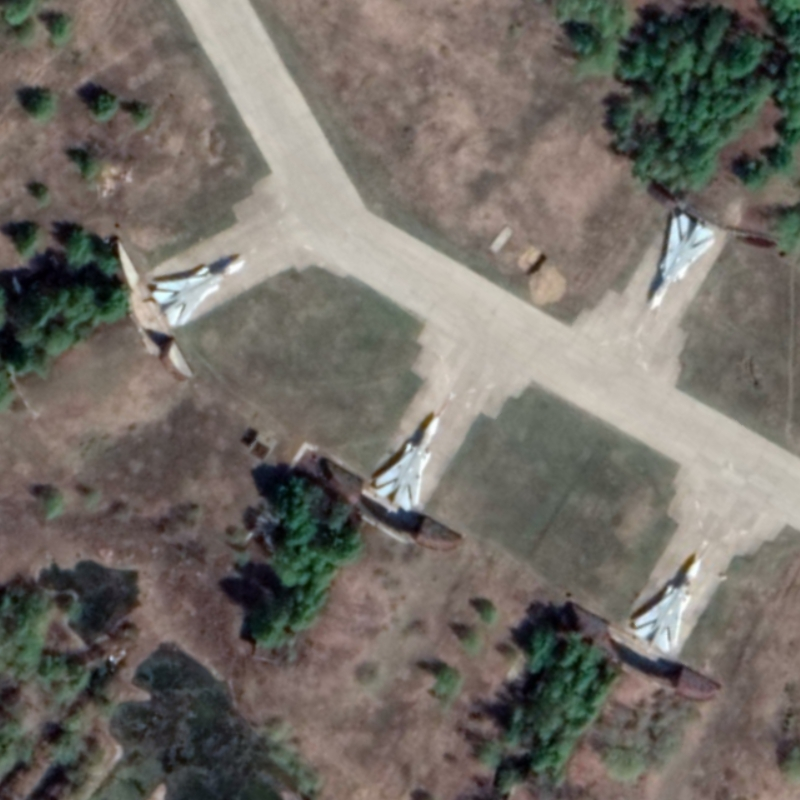A20: (647, 211, 717, 313), (150, 258, 247, 329), (632, 558, 702, 656), (373, 415, 441, 514)
